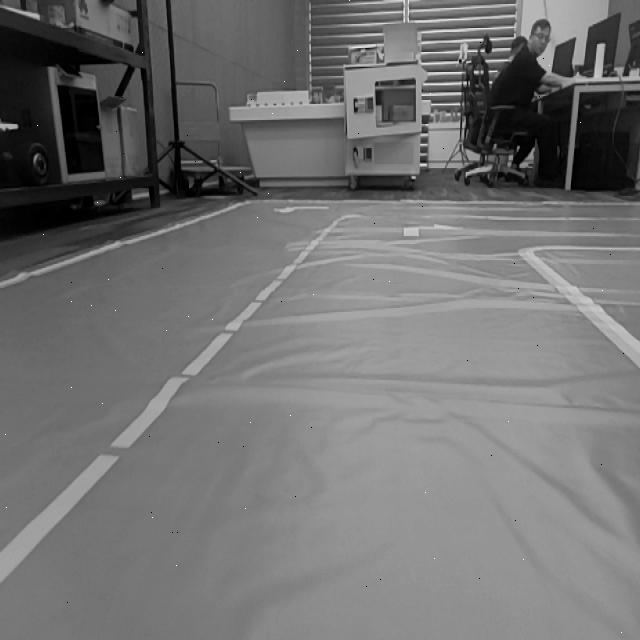left_lane: (0, 222, 335, 587)
right_lane: (520, 255, 640, 370)
